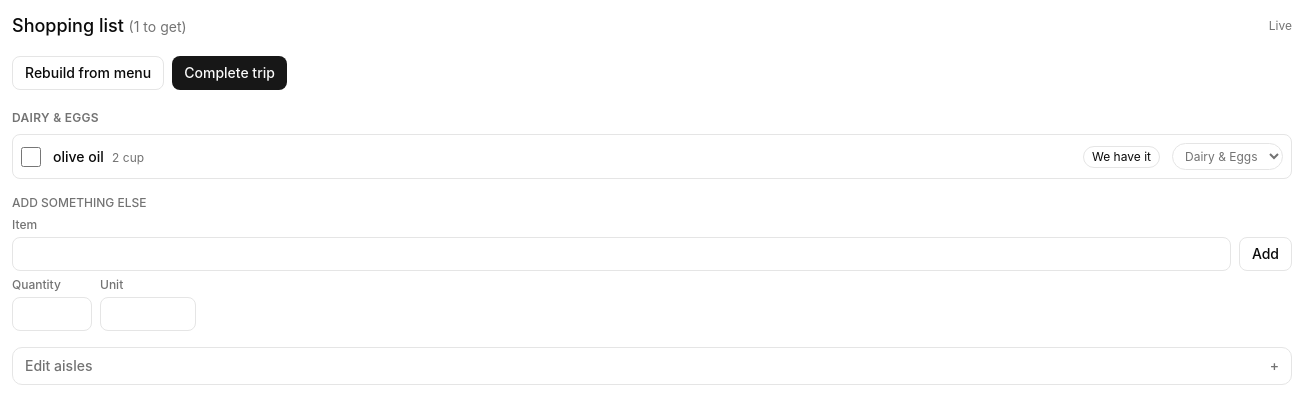
Test case: GroceryList — we have it › offers an Undo that restores the row with its quantity, unit and aisle
Click the button "We have it": coordinates (1122, 156) x1=1083 y1=146 x2=1160 y2=168
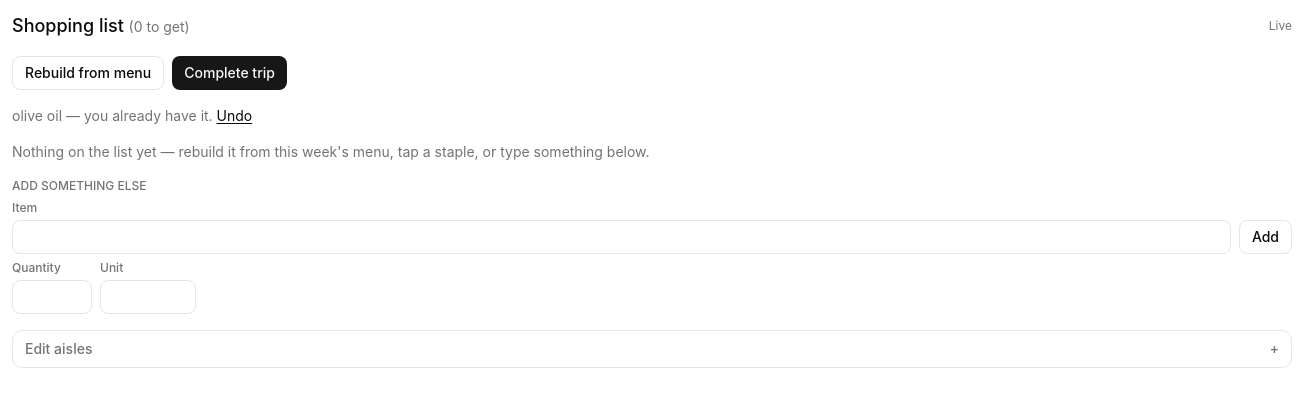
Check: the message with test id "grocery-notice" shows "olive oil", box x1=12 y1=107 x2=213 y2=124
Click the button "Undo": coordinates (234, 116) x1=217 y1=106 x2=252 y2=126
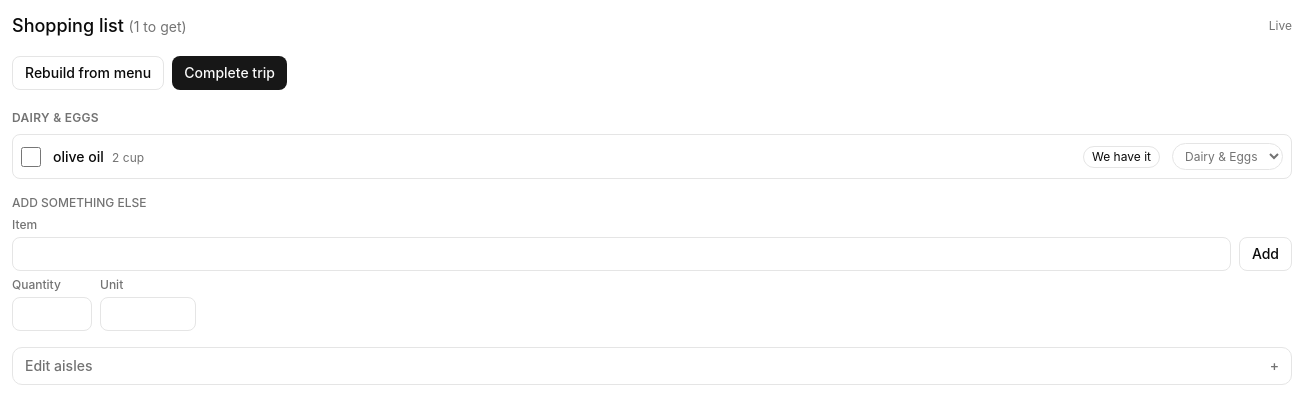
Check: the text "2 cup" is shown, box x1=112 y1=150 x2=144 y2=164
Check: the dropdown named "Aisle for olive oil" shows "Dairy & Eggs", box x1=1172 y1=143 x2=1283 y2=170
Check: the heading "Shopping list (1 to get)" is shown, box x1=12 y1=12 x2=187 y2=40
